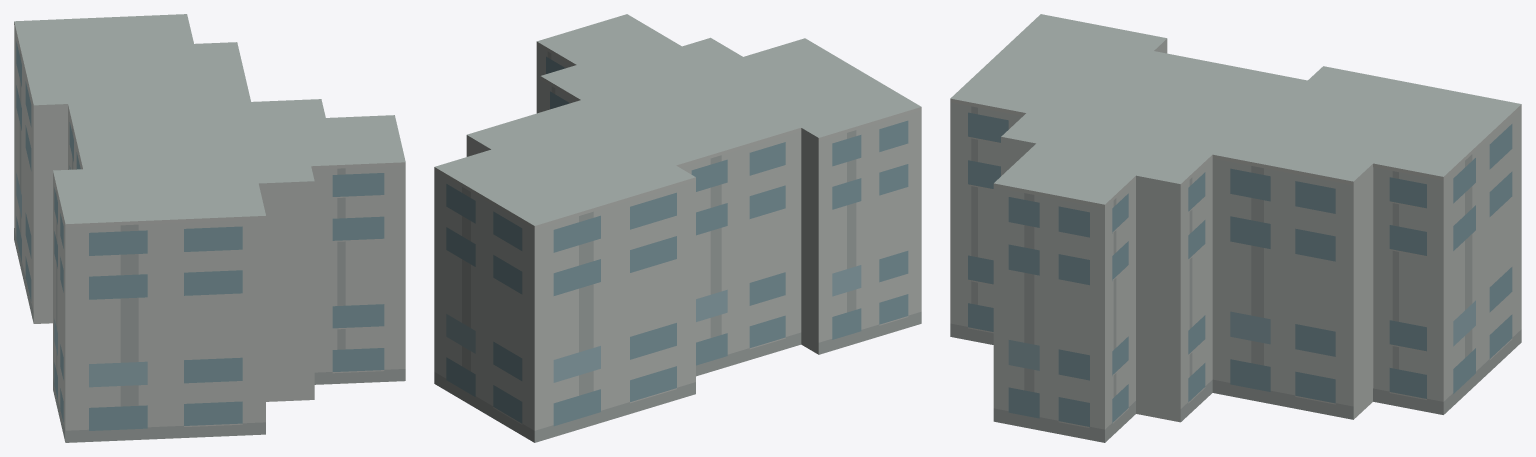
The model's file is residential-5179bb36-3d24-4d15-bfc8-ae15553faeaf.glb.
The picture shows the model from 3 angles, left to right: view 1: azimuth 30°, elevation 25°; view 2: azimuth 150°, elevation 25°; view 3: azimuth 270°, elevation 25°; orthographic projection. The views are drawn at different scales.
Visible parts, largest first — view 1: residential-5179bb36-3d24-4d15-bfc8-ae15553faeaf.tmp; view 2: residential-5179bb36-3d24-4d15-bfc8-ae15553faeaf.tmp; view 3: residential-5179bb36-3d24-4d15-bfc8-ae15553faeaf.tmp.
Boxes of the visible parts, x1,y1,x2,y2 form: residential-5179bb36-3d24-4d15-bfc8-ae15553faeaf.tmp: (14,14,405,442); residential-5179bb36-3d24-4d15-bfc8-ae15553faeaf.tmp: (434,14,921,442); residential-5179bb36-3d24-4d15-bfc8-ae15553faeaf.tmp: (950,14,1521,442).
Bounding box in the file's own units: 26.19 × 15.25 × 33.16.
